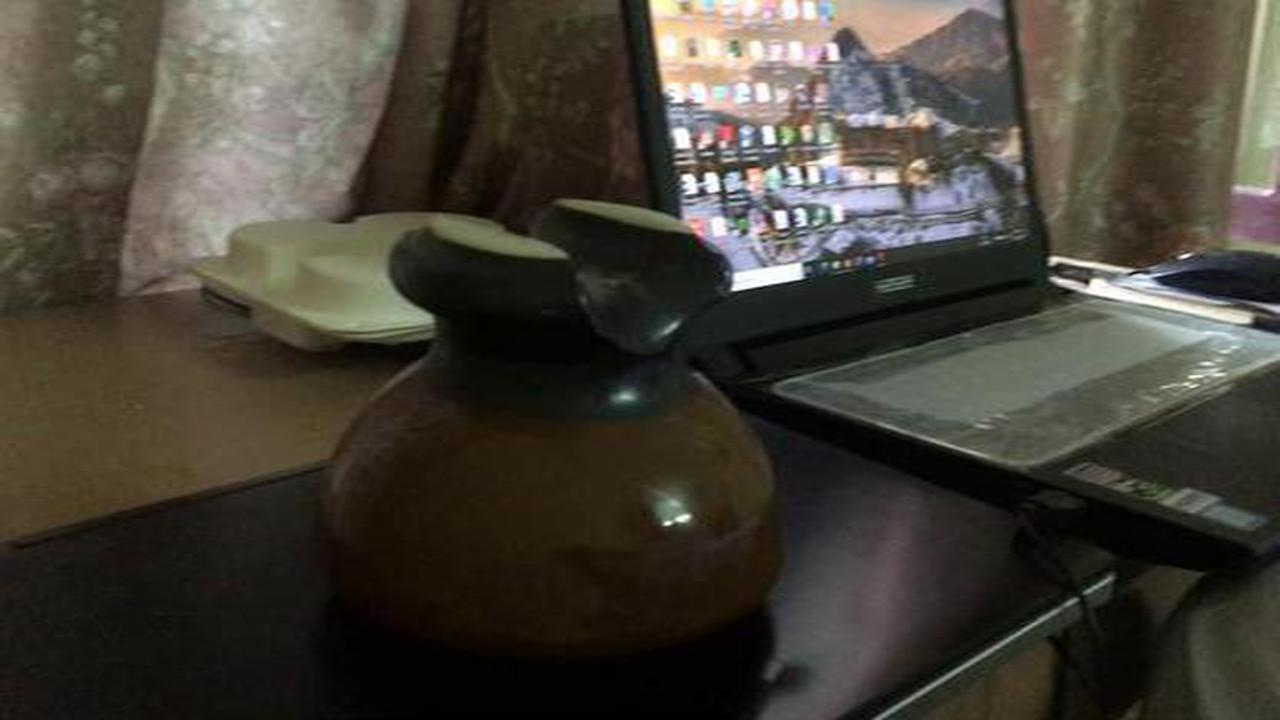insulator_pin: (284, 171, 804, 677)
